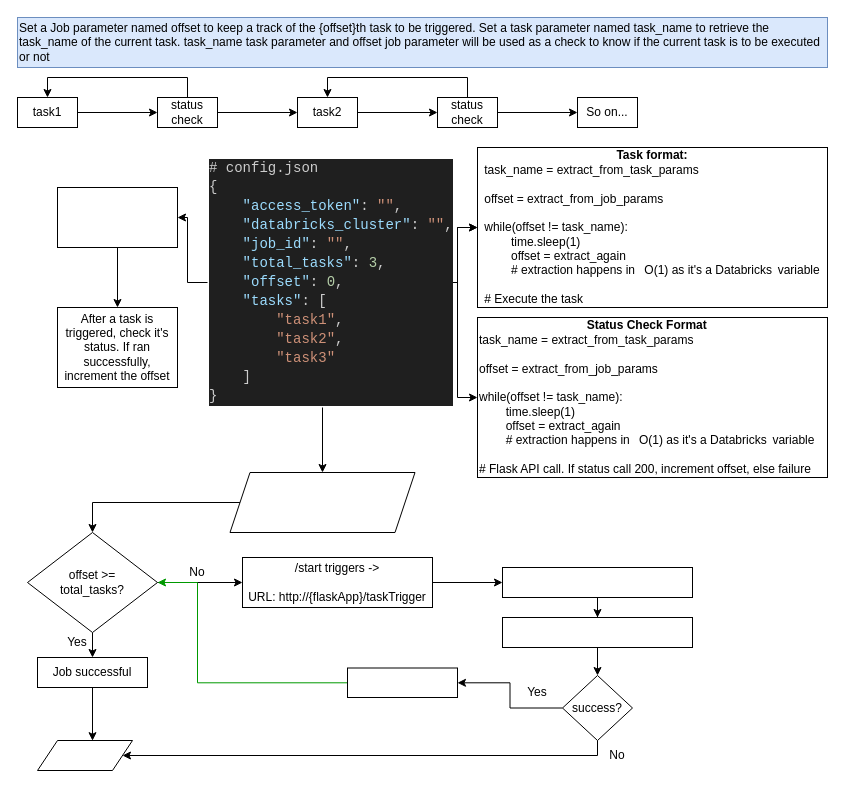
Image size: 845x788. Some labels were removed from this diagram. Here are the shapes that lost their labels. From the top down, the box of each, then its label:
(56, 186, 178, 248): Use the offset index to trigger the tasks[offset] task
(229, 472, 415, 532): Entry Point -> URL: http://{flaskApp}/start
(502, 566, 692, 598): Trigger task tasks[offset]
(502, 616, 692, 648): check status of tasks[offset]
(346, 667, 458, 698): Increment offset
(36, 740, 132, 770): End
